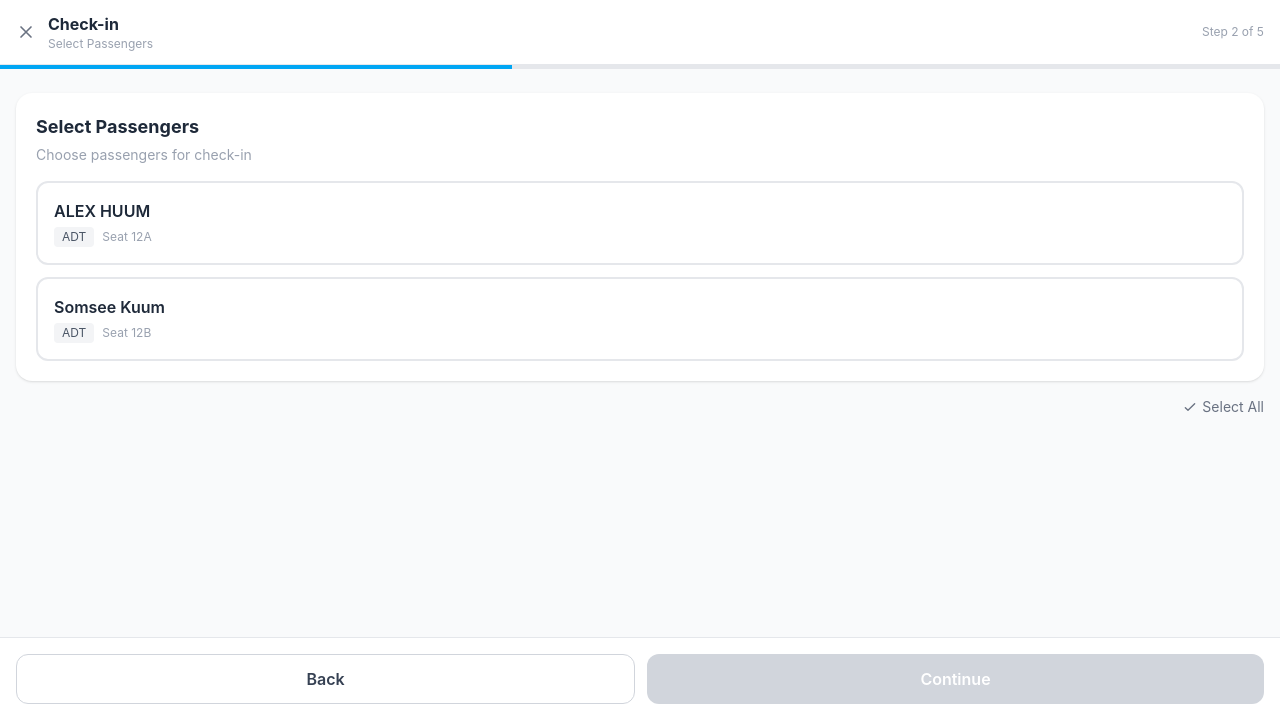
SelectPassengers › toggles passenger selection on click
Click the button "ALEX HUUM ADT Seat 12A": (102, 211) top-left (36, 181), bottom-right (1244, 265)
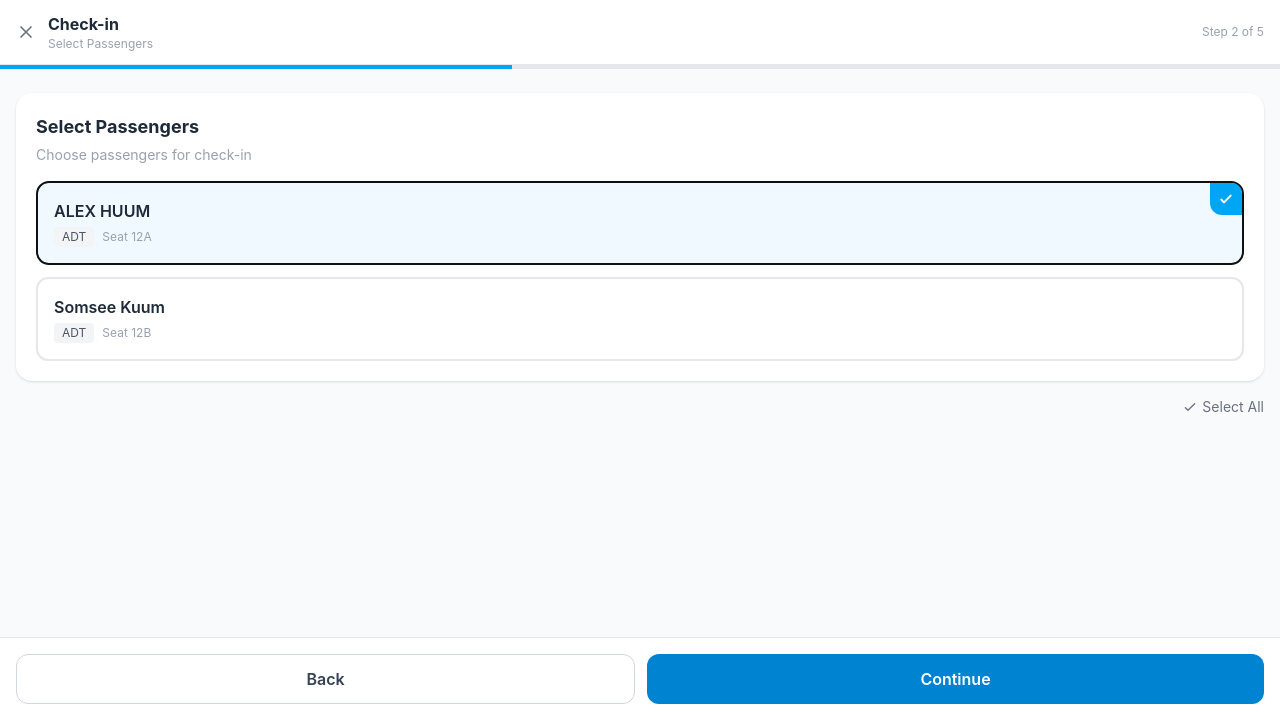
Click the button "ALEX HUUM ADT Seat 12A": (102, 211) top-left (36, 181), bottom-right (1244, 265)
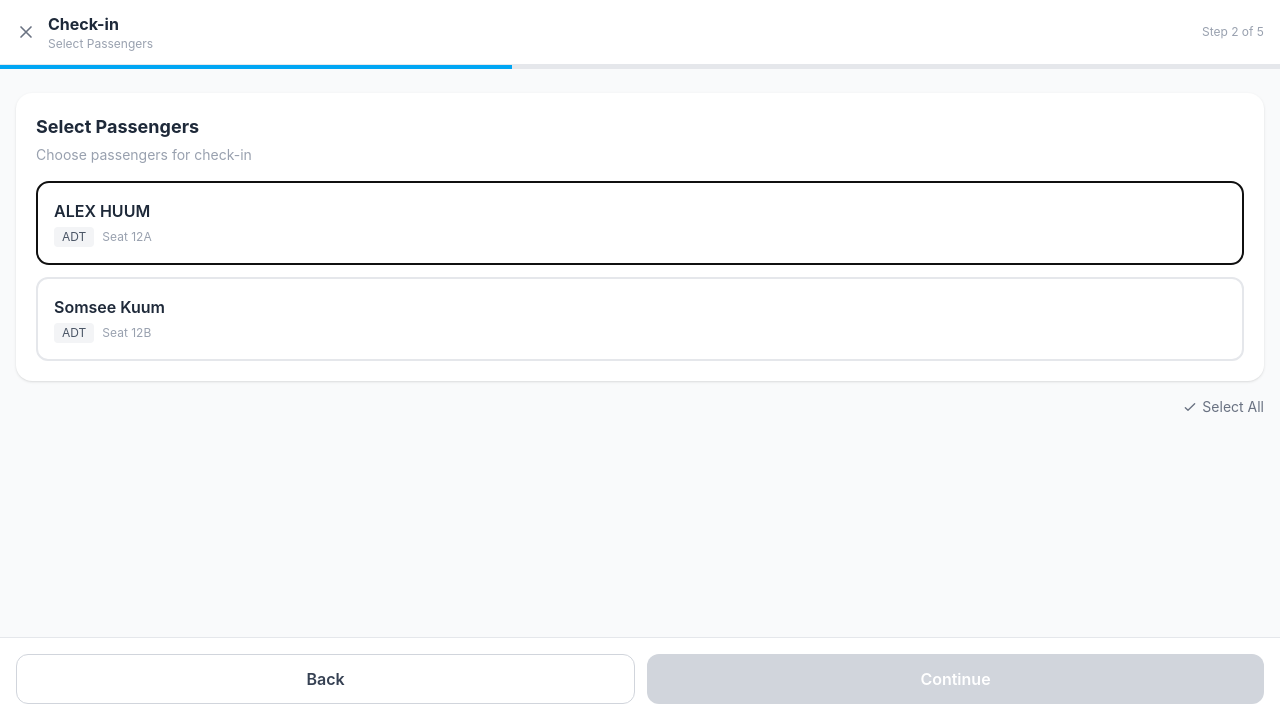
expect the button "Continue" is disabled: met, box top-left (647, 654), bottom-right (1264, 704)
